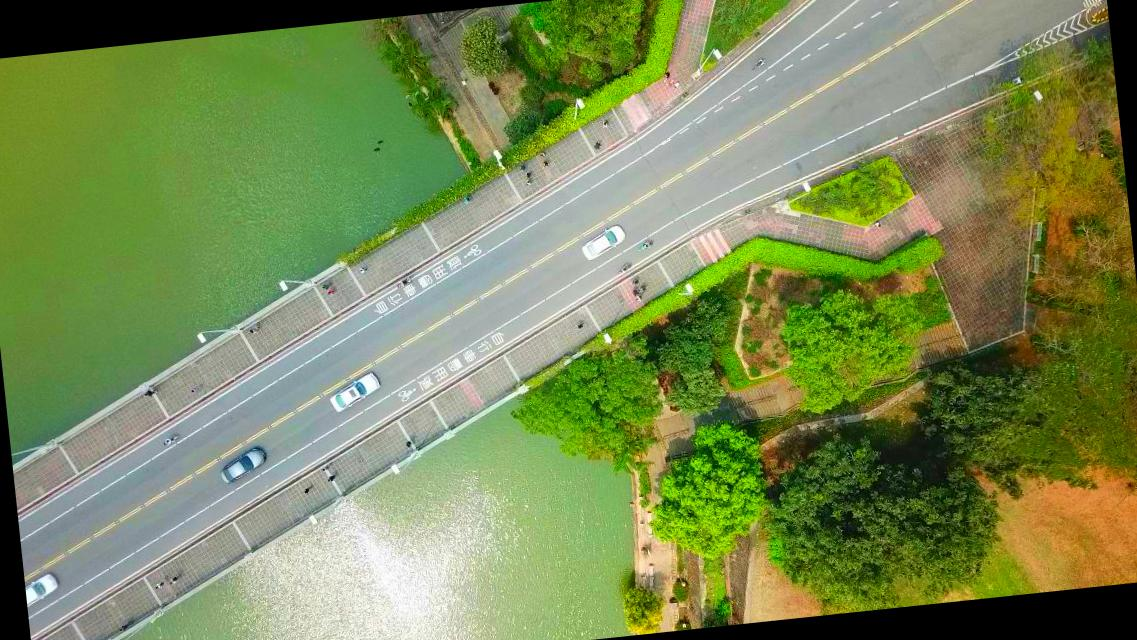vehicle: (328, 371, 383, 412), (218, 446, 268, 484), (580, 224, 627, 260), (23, 570, 63, 610)
